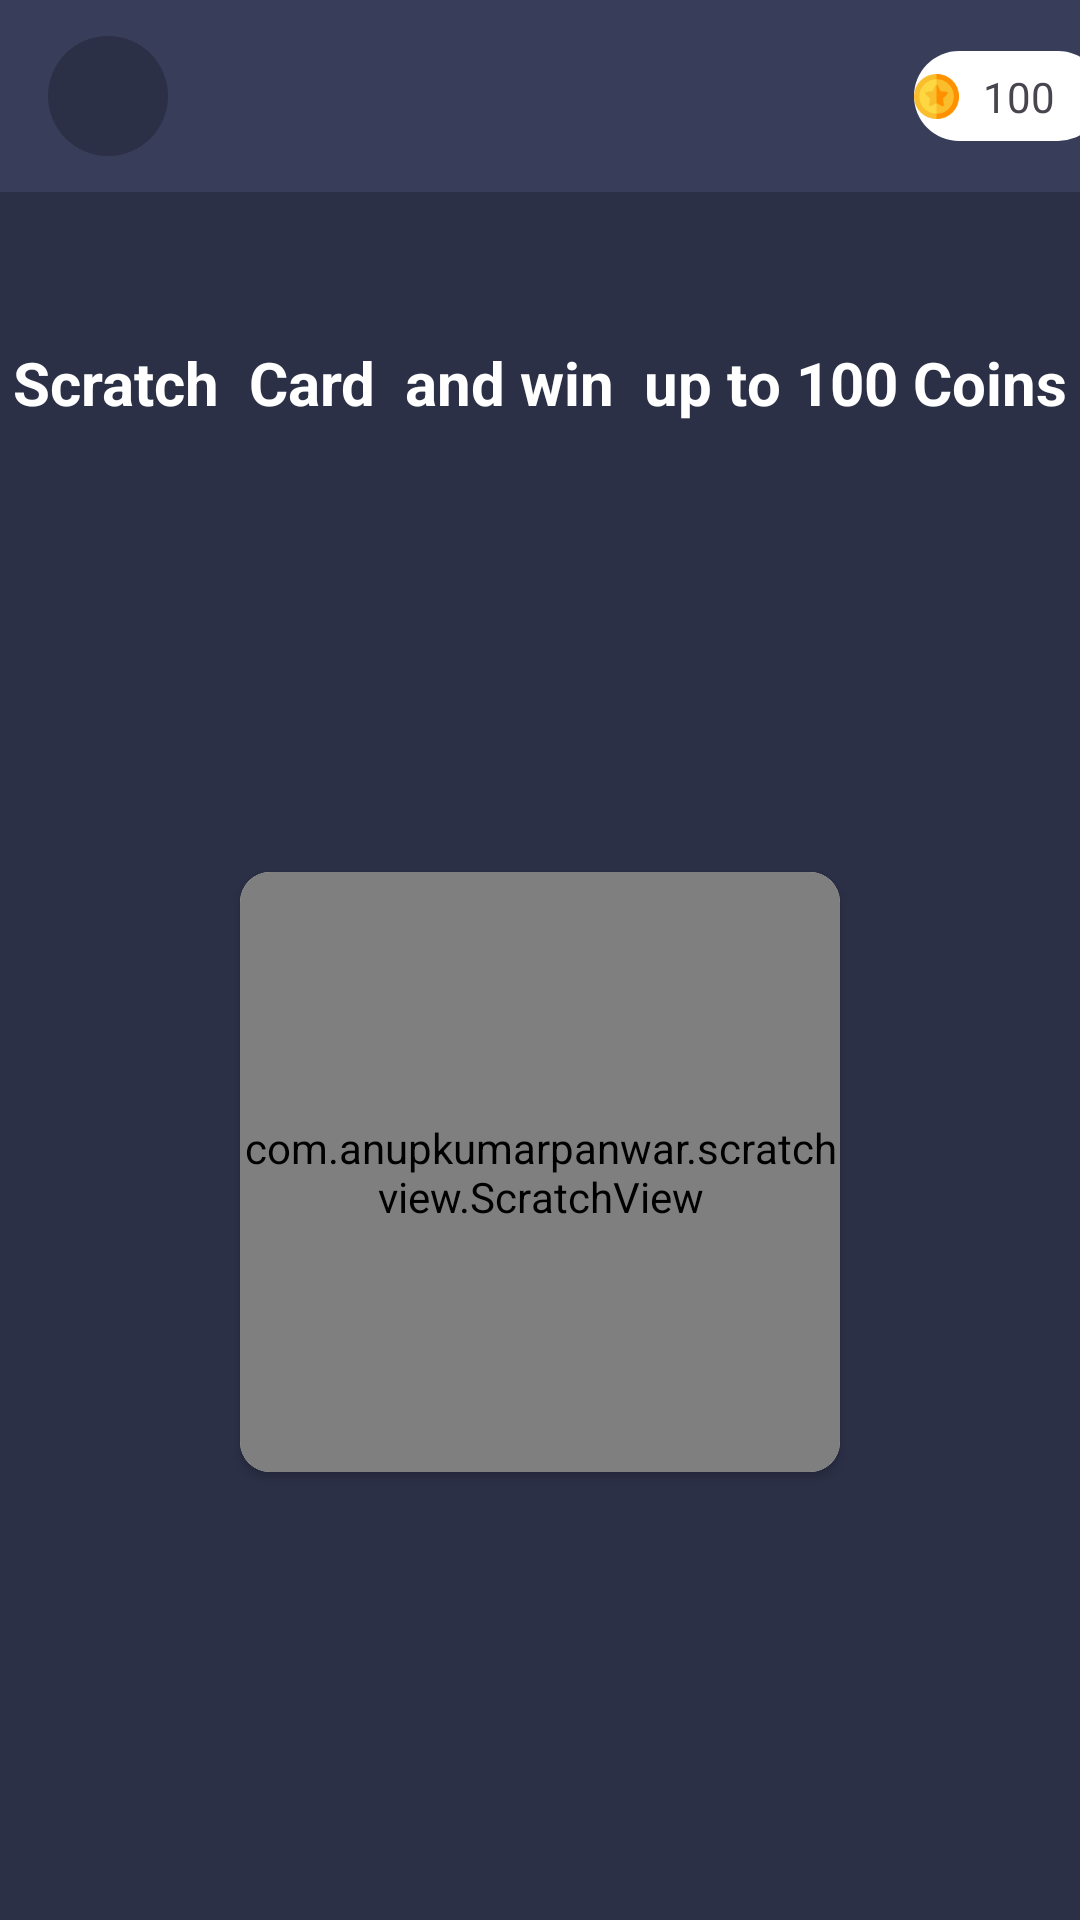

Screen size 1080px x 1920px. Icon name, then its center in pixels as (x,y):
coin: (936,96)
